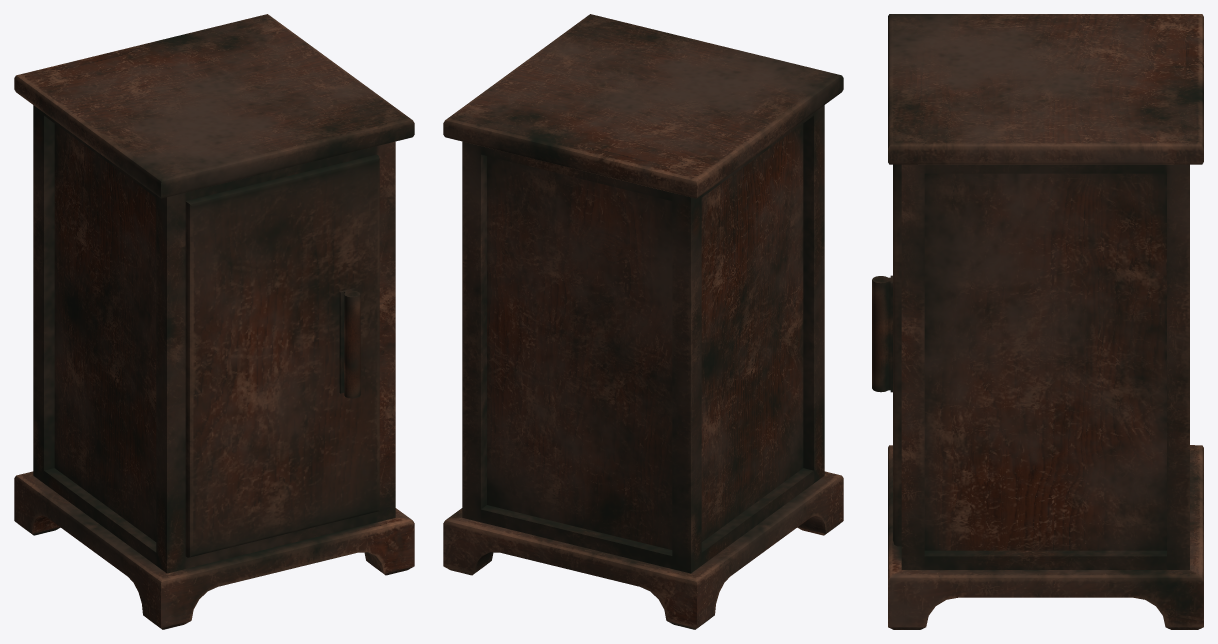
File: shrine_desk_02.fbx
3 renders of one model, left to right at view 1: azimuth 30°, elevation 25°; view 2: azimuth 150°, elevation 25°; view 3: azimuth 270°, elevation 25°, orthographic. The views are drawn at different scales.
Parts seen in each view (by area): view 1: shrine_desk_02; view 2: shrine_desk_02; view 3: shrine_desk_02.
Boxes of the visible parts, <box> form: shrine_desk_02: <box>14,14,414,629</box>; shrine_desk_02: <box>443,14,843,629</box>; shrine_desk_02: <box>872,14,1203,629</box>.
Bounding box in the file's own units: 72.06 × 122 × 75.64.
Materials: 1 (1 with a texture image).
